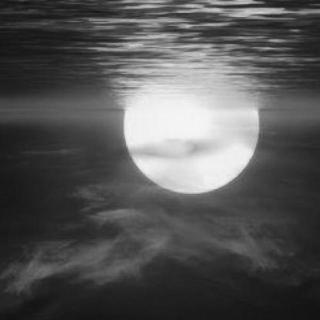other: (109, 59, 268, 207)
